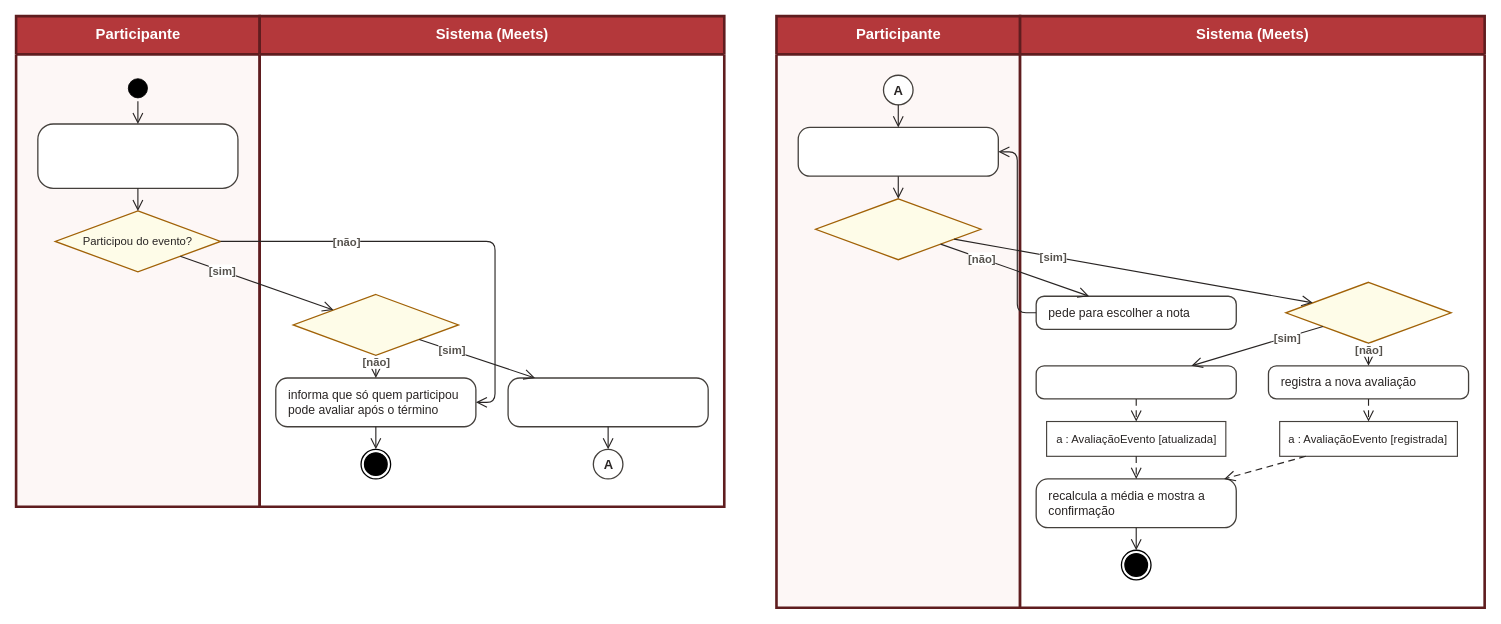
The diagram is 1501 pixels wide and 624 high, and some of its shapes have lost their labels. The shapes that lost their labels are listed below. From the top down, each one's box as (x1, y1, x2, y2) in pixels, then its label:
(37, 123, 238, 189): abre a avaliação pelo lembrete, pelo evento no feed ou pelo calendário
(797, 126, 999, 176): escolhe a nota, escreve o comentário e confirma
(815, 198, 981, 260): Nota entre 1 e 5?
(292, 293, 459, 356): O evento já terminou?
(1285, 281, 1451, 343): Já havia avaliado?
(507, 377, 708, 427): exibe 1 a 5 estrelas, comentário e opção pública ou anônima
(1035, 365, 1237, 399): atualiza a avaliação anterior
